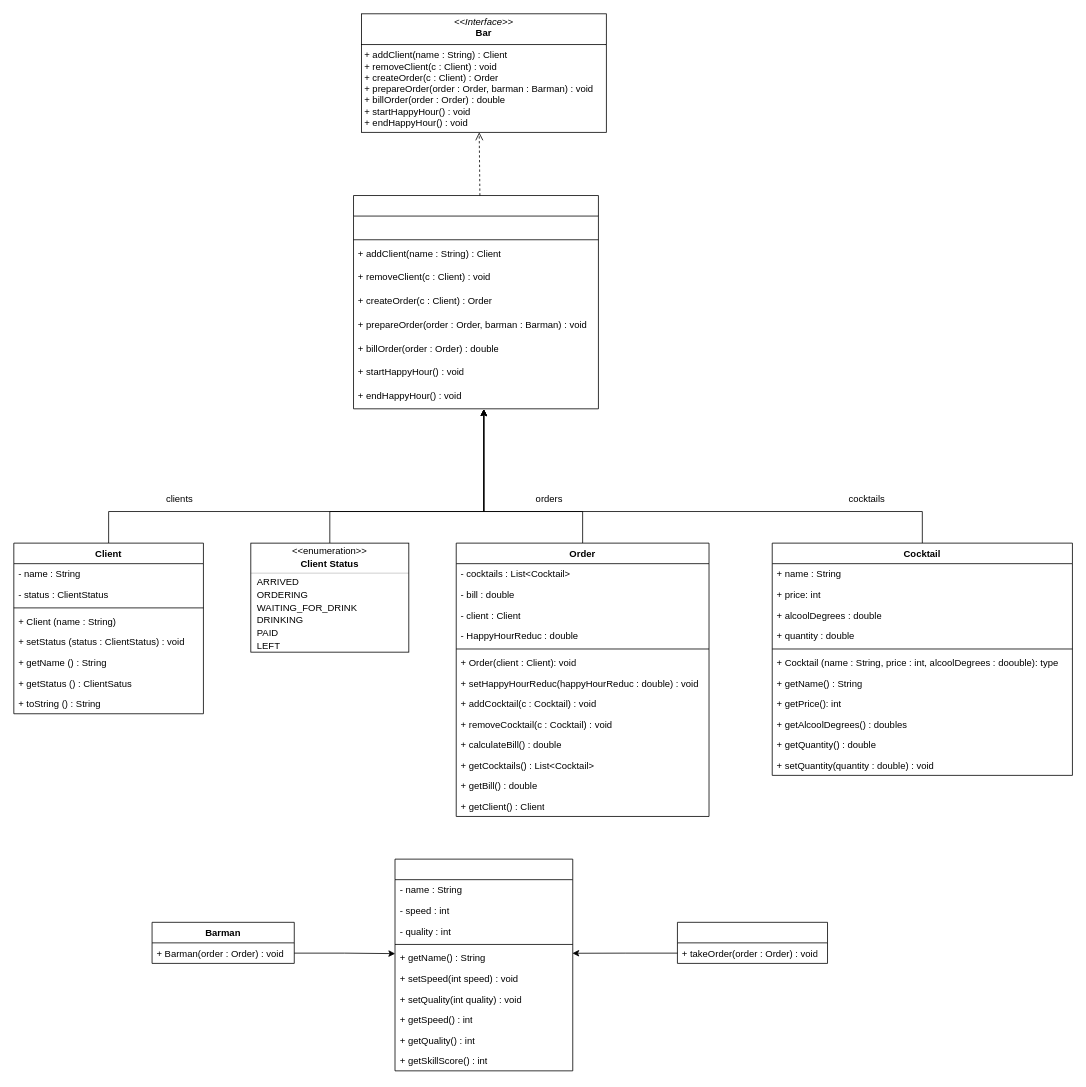
The diagram is 1086 pixels wide and 1087 high, and some of its shapes have lost their labels. The shapes that lost their labels are listed below. From the top down, each one's box as (x1, y1, x2, y2) in pixels, then its label:
(353, 195, 598, 409): SimpleBar
(677, 922, 828, 963): Waiter
(394, 858, 573, 1071): Employee
